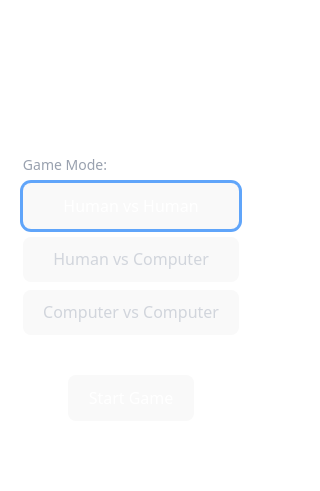
App › setup screen › shows player selector when HvC mode is selected
Click the button "Human vs Computer" at (131, 259), box [23,236,239,282]
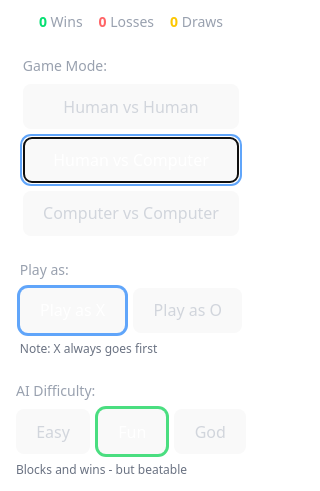
Result: the text "Play as:" is shown at [20,260,69,279]
Result: the button "Play as X" is shown at [20,288,126,333]
Result: the button "Play as O" is shown at [133,288,242,333]
